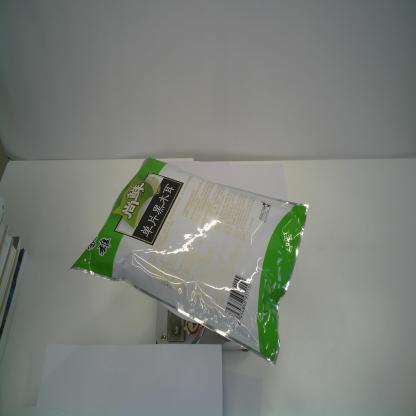Dried Food: (64, 154, 311, 370)
